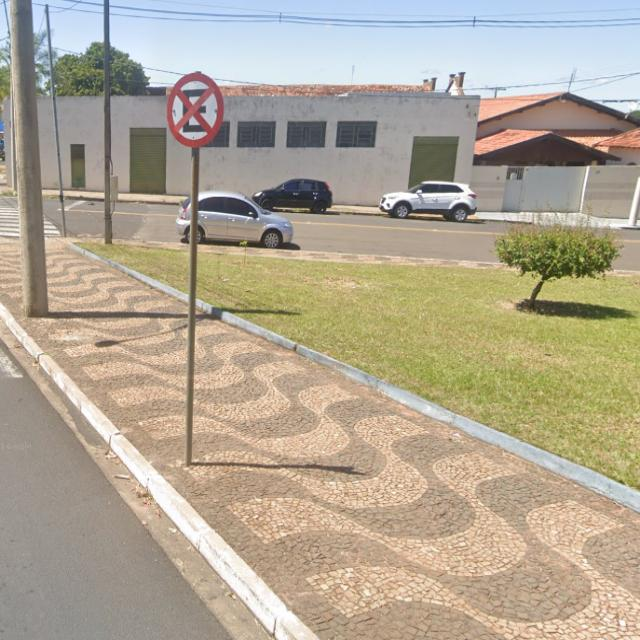no parking: (147, 56, 241, 158)
